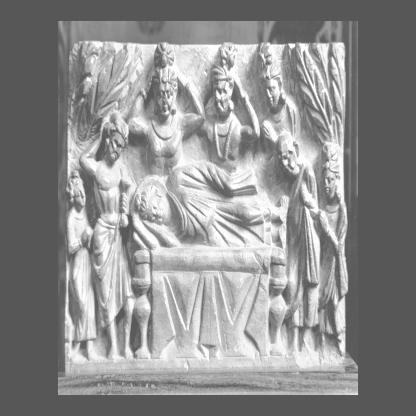buddha-sleeping: (132, 162, 288, 360)
